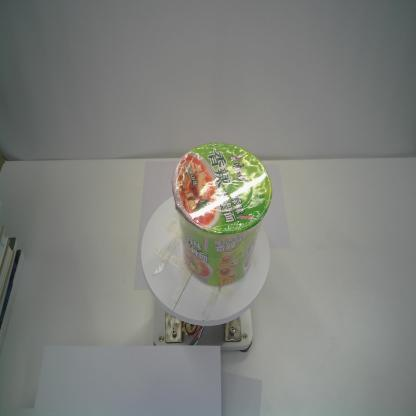Instant Noodles: (170, 140, 274, 291)
